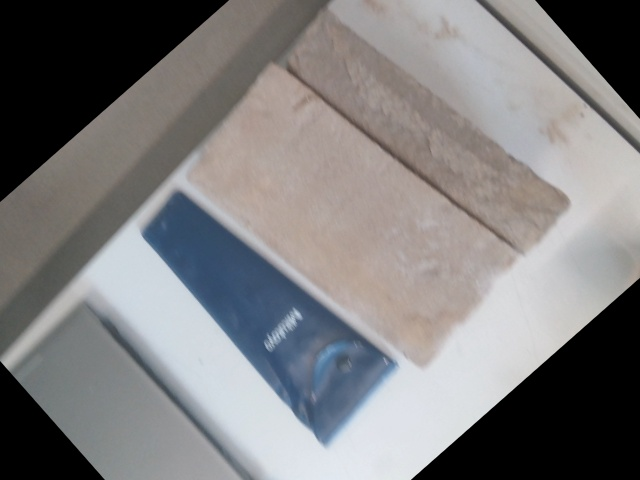brick: (185, 64, 509, 367)
